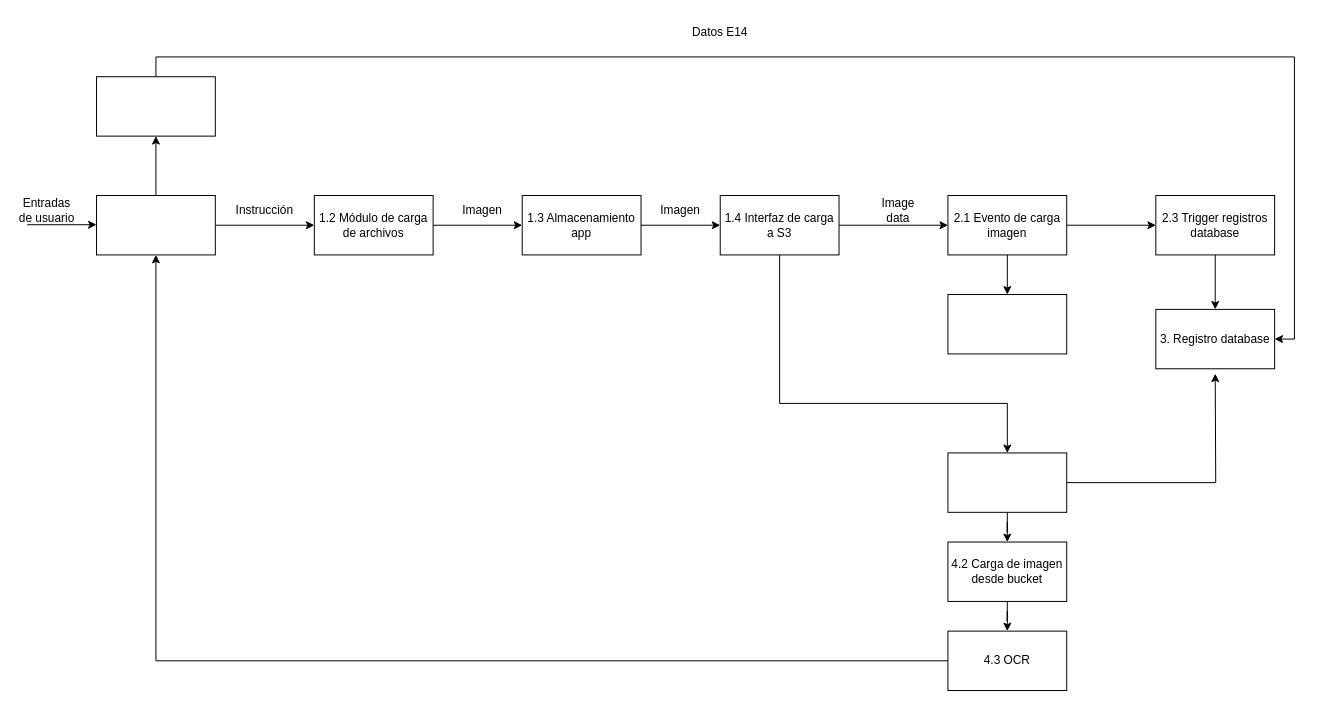
Image size: 1320x708. Some labels were removed from this diagram. Each missing label, with the centre of its shape:
1.1 Interfaz de aplicación: point (155, 225)
1.5 Módulo de validación formulario: point (155, 106)
2.2 Almacenamiento bucket: point (1007, 324)
Componente trigger OCR (on demand): point (1007, 482)
